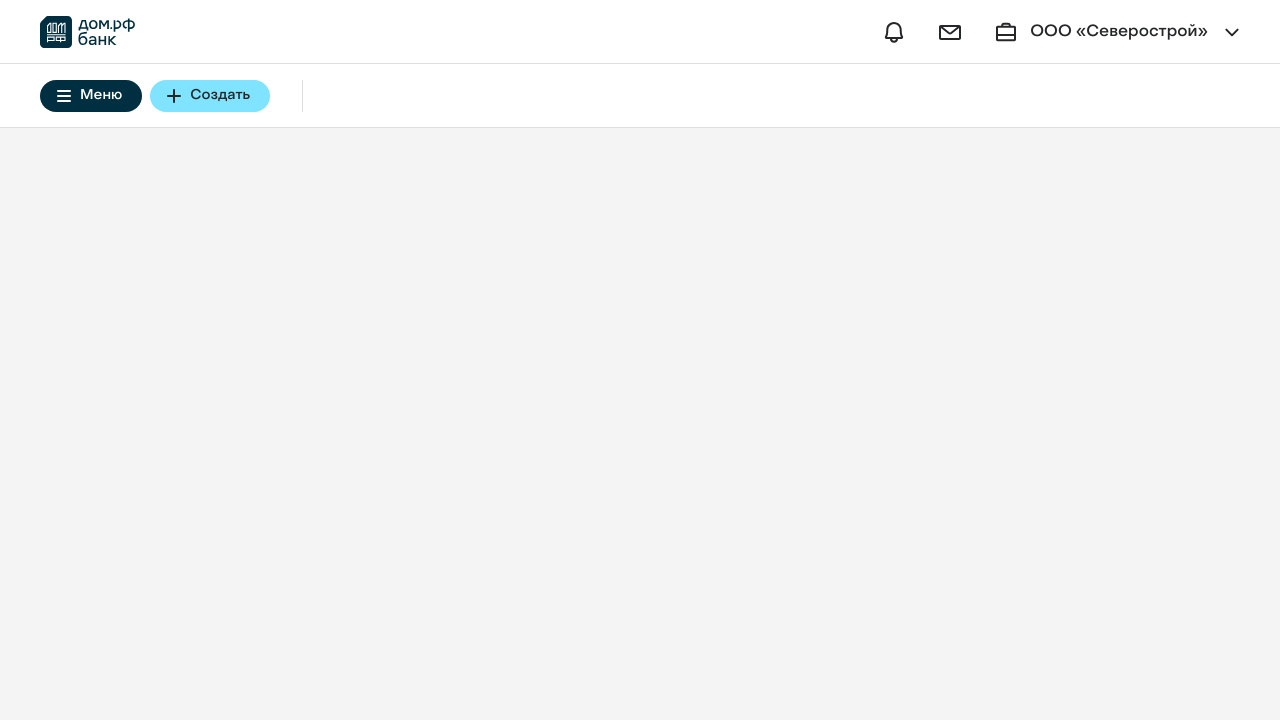
Test: Header › opens the navigation panel from Меню and swaps it for the create panel
The width and height of the screenshot is (1280, 720).
Click the button "Меню" at (91,96), box [40,80,142,112]
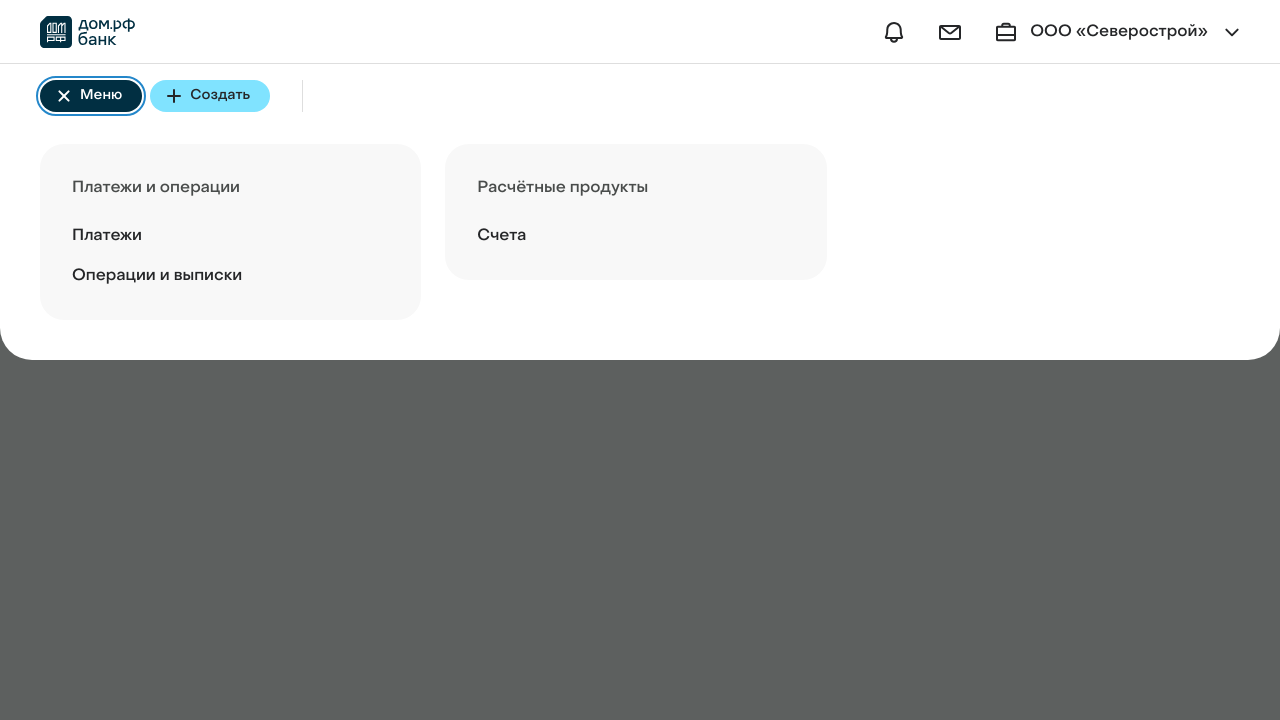
Now the text "Платежи и операции" is shown, box [72,180,240,196]
Click the button "Создать" at (210,96), box [150,80,270,112]
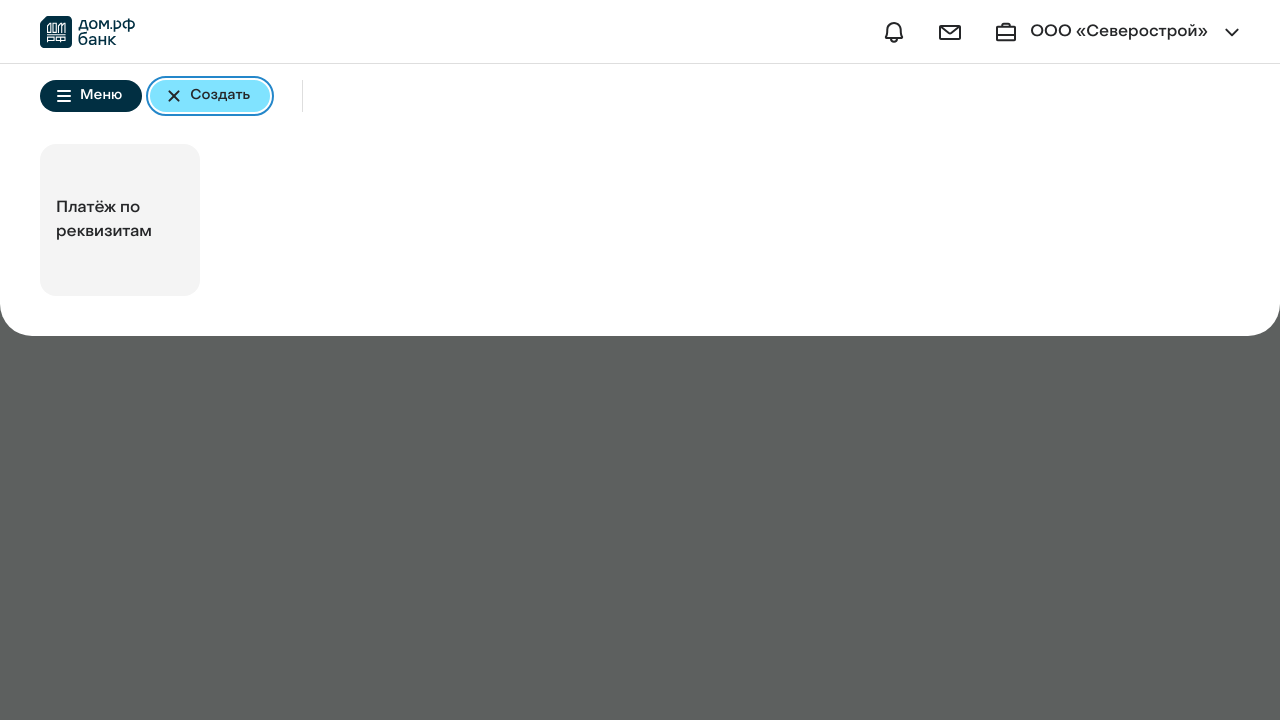
Now the text "Платёж по реквизитам" is shown, box [56,200,152,240]
Now the text "Платежи и операции" is gone
Click the button "Создать" at (210,96), box [150,80,270,112]
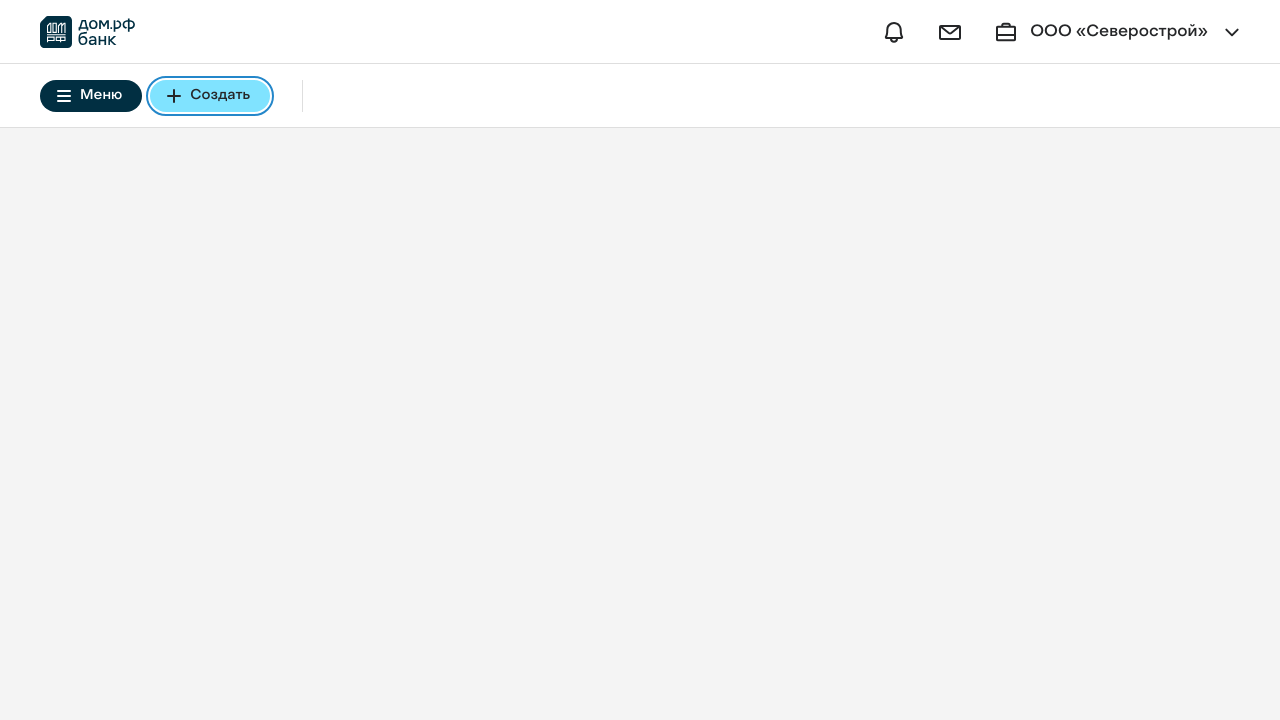
Now the button "Платёж по реквизитам" is gone
